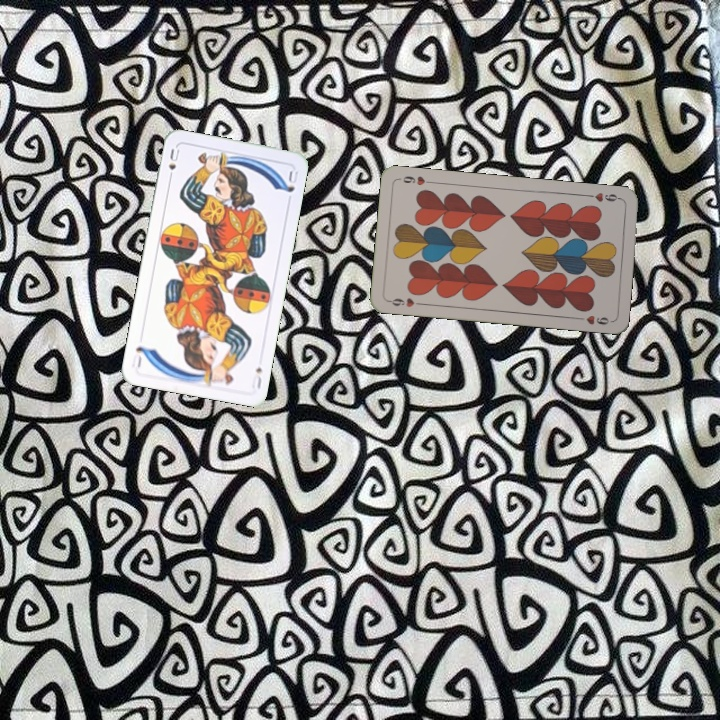H9: (384, 294, 425, 310), (583, 188, 624, 204)
SU: (164, 145, 182, 184), (247, 363, 264, 391)
